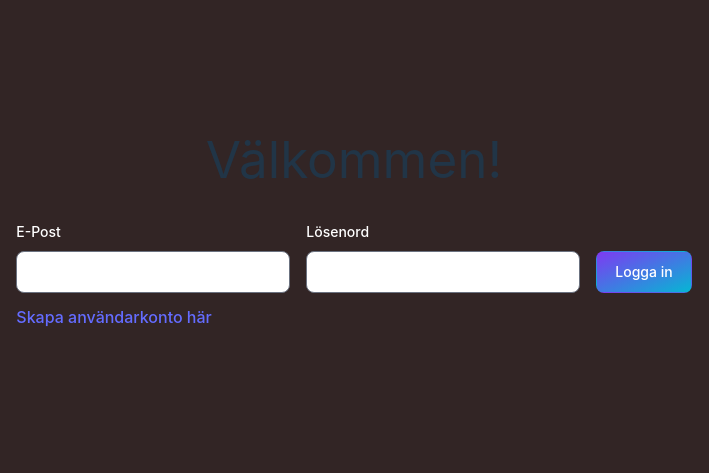
register › Ska misslyckas när inget namn är ifyllt
Click the link with test id "register": (114, 317) [16,307,211,327]
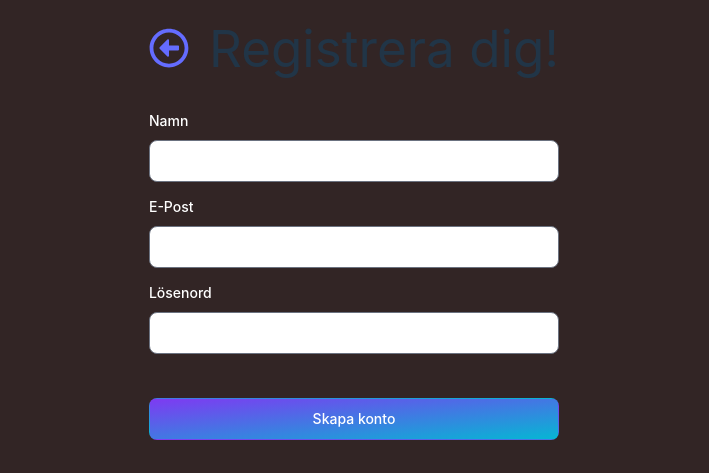
In the field with test id "email": (354, 247) [149,226,559,268], type "testuser@email.com"
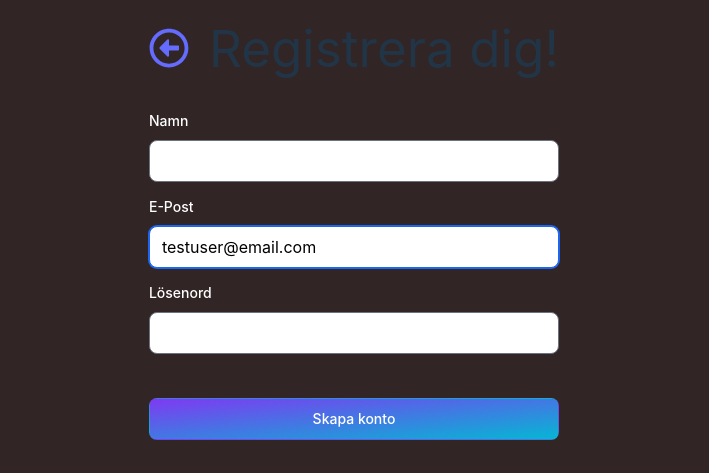
In the password field with test id "password": (354, 333) [149,312,559,354], type "testuser123"
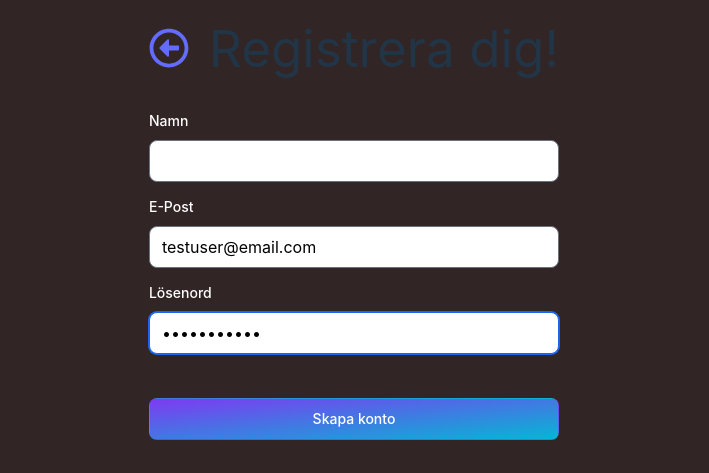
Click the button with test id "registerSubmit": (354, 419) [149,398,559,440]
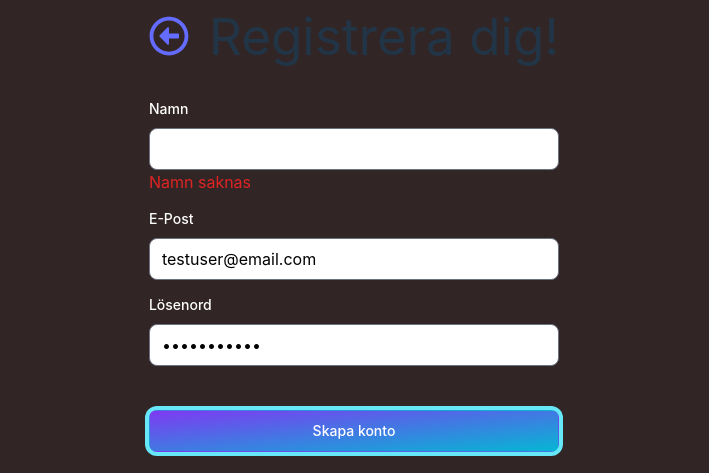
Result: the text "Namn saknas" is shown at [149,172,251,192]
